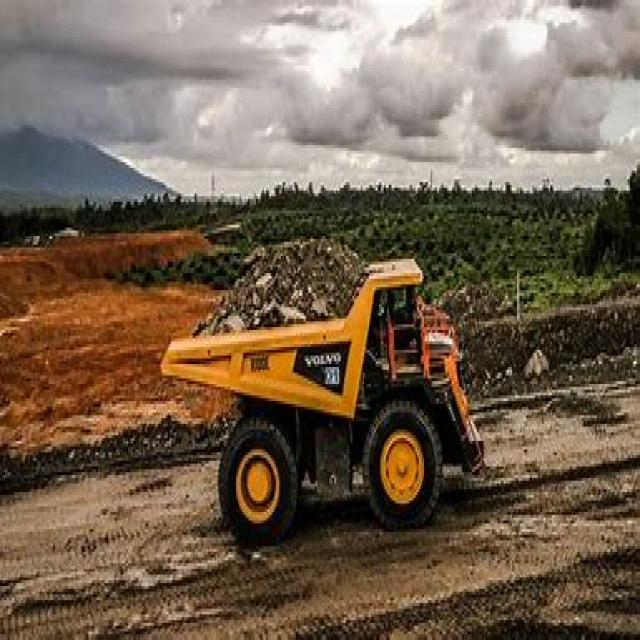dump_truck: (161, 234, 487, 544)
